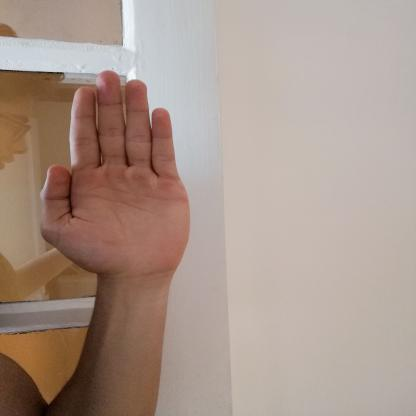SEEN: (27, 61, 202, 284)
